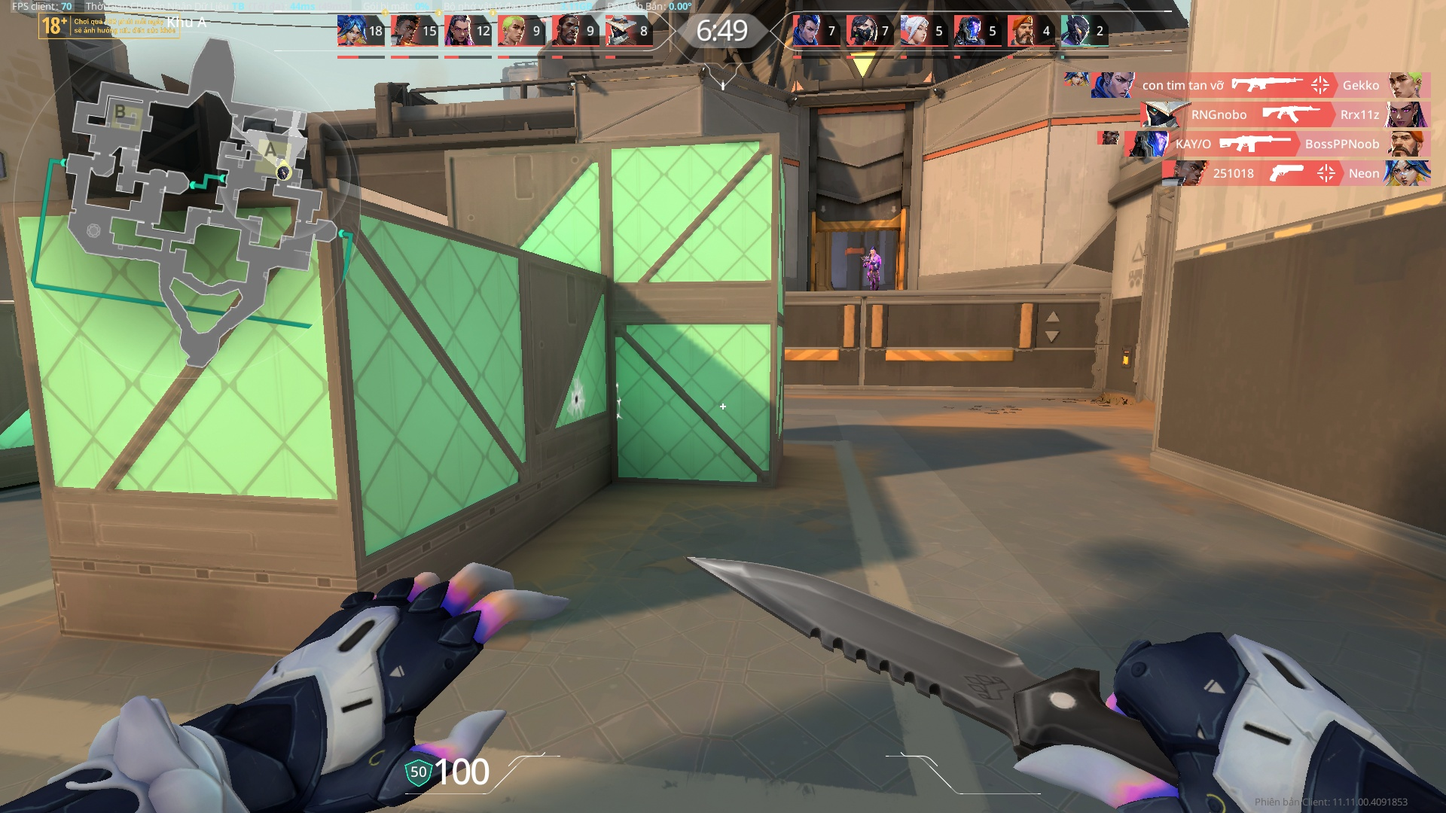body: (865, 252, 882, 269)
head: (868, 245, 878, 257)
